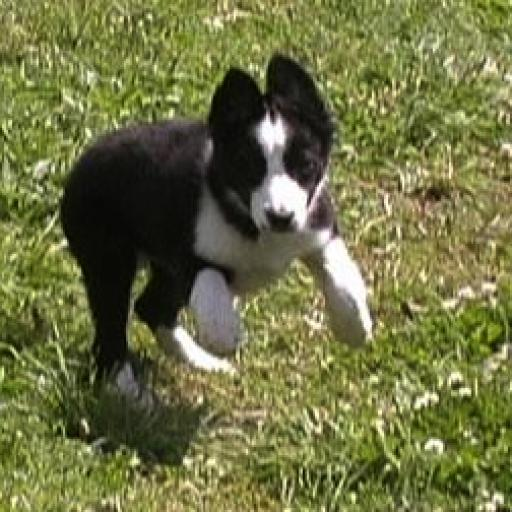dog_face: (210, 68, 344, 235)
